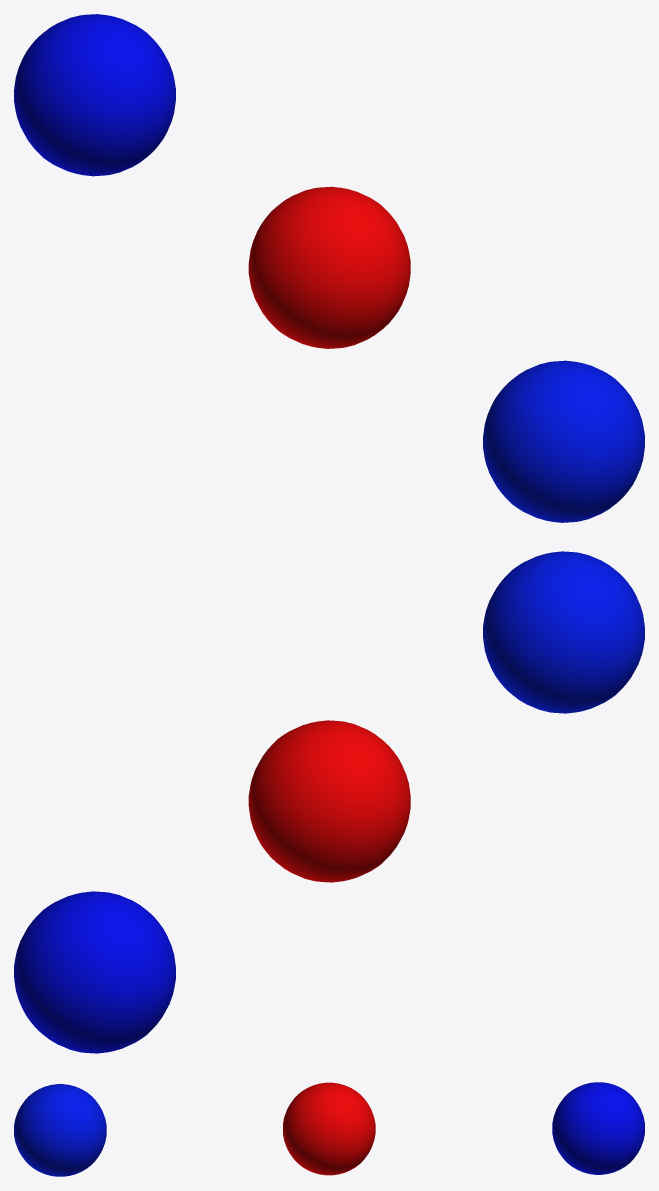
File: Caso(-,+,-).glb
3 renders of one model, top to bottom at view 1: azimuth 30°, elevation 25°; view 2: azimuth 150°, elevation 25°; view 3: azimuth 270°, elevation 25°, orthographic. The views are drawn at different scales.
Visible parts, largest first — view 1: Carga 2, Carga 3, Carga 1; view 2: Carga 2, Carga 3, Carga 1; view 3: Carga 2, Carga 1, Carga 3.
Boxes of the visible parts, x1,y1,x2,y2 form: Carga 2: [248, 186, 410, 348]; Carga 3: [14, 14, 175, 176]; Carga 1: [483, 360, 644, 522]; Carga 2: [248, 720, 410, 882]; Carga 3: [14, 891, 175, 1053]; Carga 1: [483, 551, 644, 713]; Carga 2: [283, 1082, 375, 1175]; Carga 1: [14, 1084, 106, 1176]; Carga 3: [552, 1082, 644, 1174].
Bounding box in the file's own units: 3.44 × 3.52 × 23.44.
